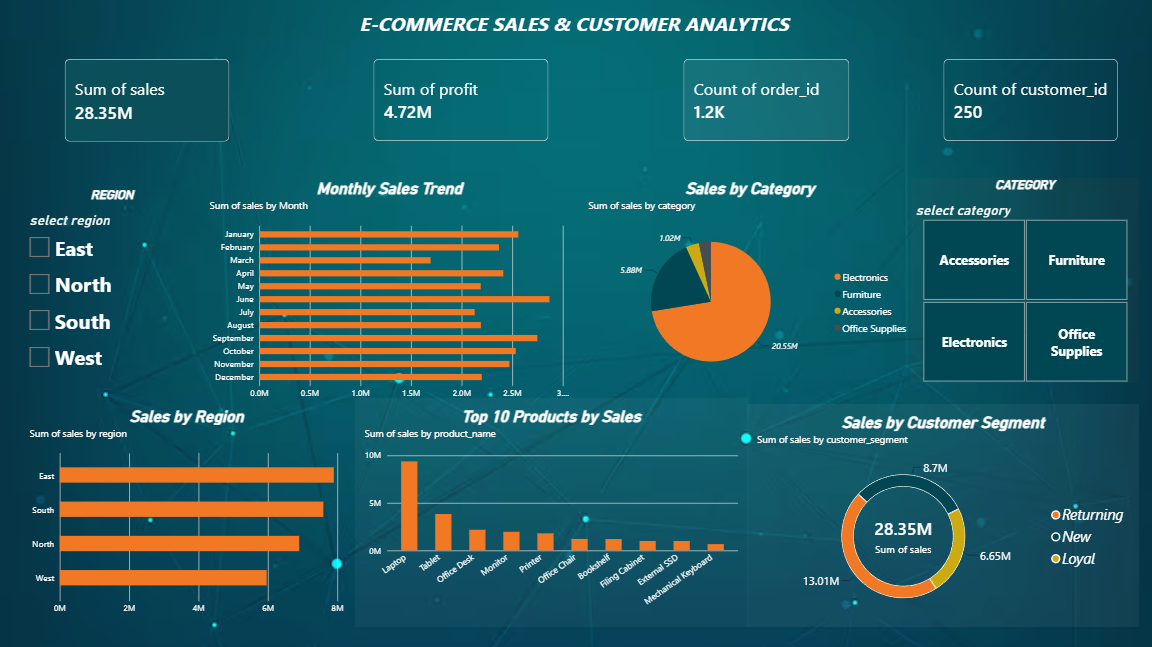

The page's visual inventory and layout, read from the dashboard file:
{"tool":"powerbi","page":{"name":"Page 1","canvas":[1920,1080],"ordinal":0},"visuals":[{"type":"cardVisual","fields":{"Data":["Sum(ecommerce_analytics order_details.sales)"]},"box":[113.2,107,271.7,136],"z":0},{"type":"cardVisual","fields":{"Data":["Sum(ecommerce_analytics order_details.profit)"]},"box":[621.6,107,288.2,135.8],"z":1000},{"type":"cardVisual","fields":{"Data":["Count(ecommerce_analytics order_details.order_id)"]},"box":[1132.1,107,273.8,135.8],"z":2000},{"type":"cardVisual","fields":{"Data":["Count(ecommerce_analytics customers.customer_id)"]},"box":[1560,107.5,287.5,135],"z":3000},{"type":"clusteredBarChart","title":"Monthly Sales Trend","fields":{"Category":["ecommerce_analytics orders.order_date.Variation.Date Hierarchy.Month"],"Y":["Sum(ecommerce_analytics order_details.sales)"]},"box":[335,290,625,397.5],"z":4000},{"type":"pieChart","title":"Sales by Category","fields":{"Category":["ecommerce_analytics products.category"],"Y":["Sum(ecommerce_analytics order_details.sales)"]},"box":[960,290,565,365],"z":5000},{"type":"barChart","title":"Sales by Region","fields":{"Category":["ecommerce_analytics orders.region"],"Y":["Sum(ecommerce_analytics order_details.sales)"]},"box":[40,665,550,377.5],"z":6000},{"type":"clusteredColumnChart","title":"Top 10 Products by Sales","fields":{"Category":["ecommerce_analytics products.product_name"],"Y":["Sum(ecommerce_analytics order_details.sales)"]},"box":[590,665,647.5,377.5],"z":7000},{"type":"donutChart","title":"Sales by Customer Segment","fields":{"Category":["ecommerce_analytics customers.customer_segment"],"Y":["Sum(ecommerce_analytics order_details.sales)"]},"box":[1237.5,675,645,367.5],"z":8000},{"type":"textbox","box":[0,26.8,1904,80.3],"z":9000},{"type":"slicer","title":"REGION","fields":{"Values":["ecommerce_analytics customers.region"]},"box":[47.5,320,287.5,320],"z":10000},{"type":"slicer","title":"CATEGORY","fields":{"Values":["ecommerce_analytics products.category"]},"box":[1507.5,302.5,375,337.5],"z":11000}]}

Visuals, with their boxes in screenshot pixels (x1, y1, x2, y2), scaled from the page's 1920x1080 canvas onto the 1152x647 screenshot:
cardVisual - Sum(ecommerce_analytics order_details.sales): region(68, 64, 231, 146)
cardVisual - Sum(ecommerce_analytics order_details.profit): region(373, 64, 546, 145)
cardVisual - Count(ecommerce_analytics order_details.order_id): region(679, 64, 844, 145)
cardVisual - Count(ecommerce_analytics customers.customer_id): region(936, 64, 1108, 145)
"Monthly Sales Trend" clusteredBarChart: region(201, 174, 576, 412)
"Sales by Category" pieChart: region(576, 174, 915, 392)
"Sales by Region" barChart: region(24, 398, 354, 625)
"Top 10 Products by Sales" clusteredColumnChart: region(354, 398, 742, 625)
"Sales by Customer Segment" donutChart: region(742, 404, 1130, 625)
textbox: region(0, 16, 1142, 64)
"REGION" slicer: region(28, 192, 201, 383)
"CATEGORY" slicer: region(904, 181, 1130, 383)
